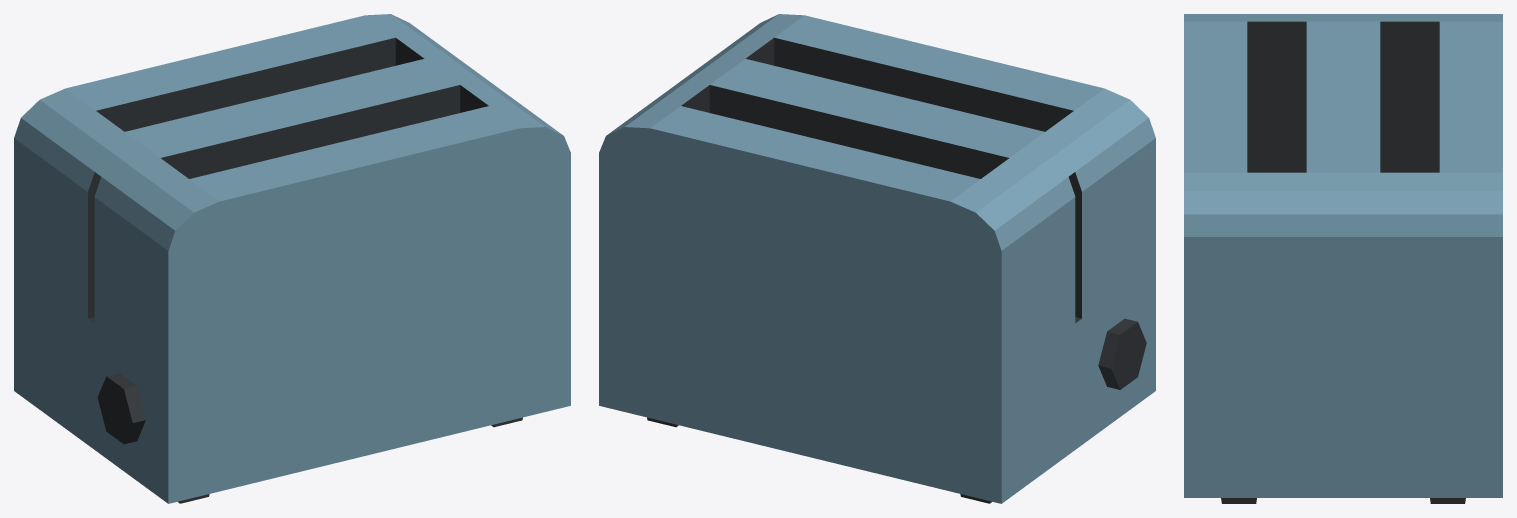
The model's file is Toaster_C3_01.fbx.
The picture shows the model from 3 angles, left to right: view 1: azimuth 30°, elevation 25°; view 2: azimuth 150°, elevation 25°; view 3: azimuth 270°, elevation 25°; orthographic projection. The views are drawn at different scales.
Visible parts, largest first — view 1: Toaster_C3_01; view 2: Toaster_C3_01; view 3: Toaster_C3_01.
Boxes of the visible parts, x1=… form: Toaster_C3_01: x1=14, y1=14, x2=570, y2=503; Toaster_C3_01: x1=599, y1=14, x2=1155, y2=503; Toaster_C3_01: x1=1184, y1=14, x2=1502, y2=503.
Size of the model in its own units: 30.19 by 21.55 by 19.42.
